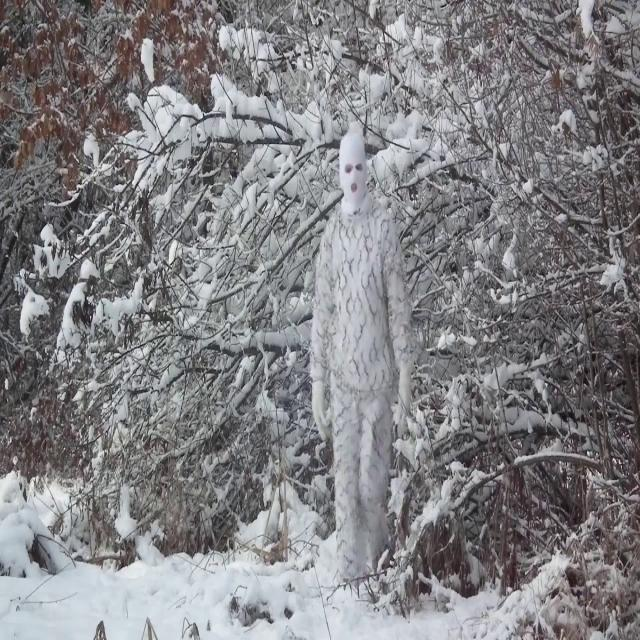Camouflage: (309, 135, 416, 587)
